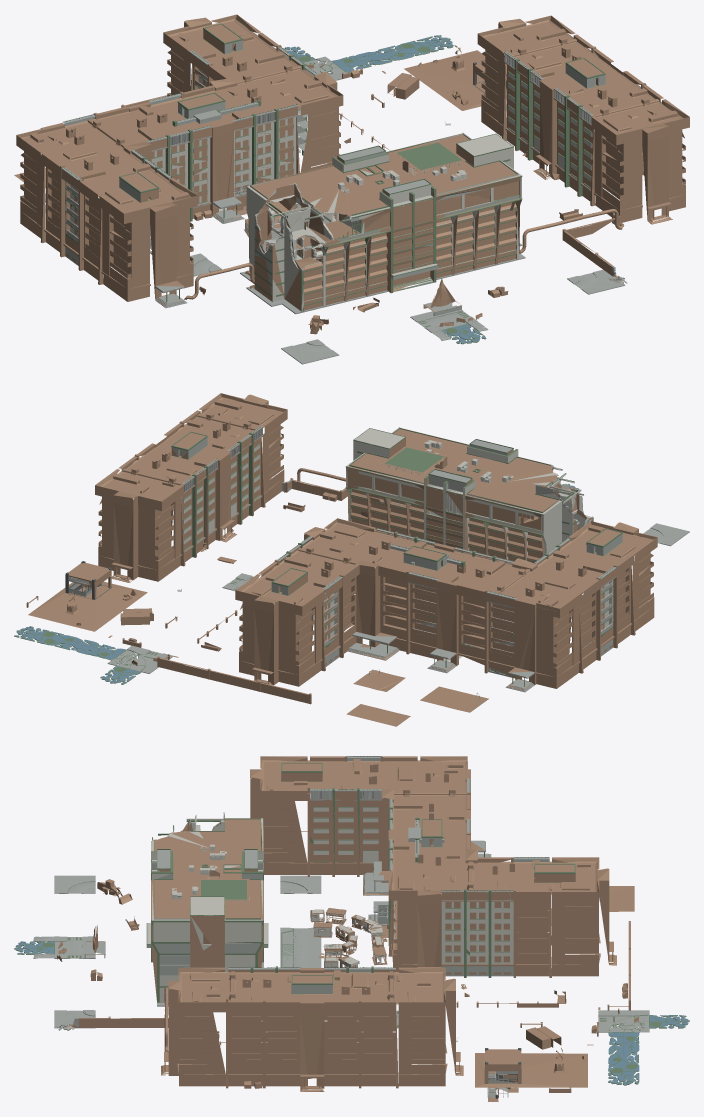
File: apartments_complex_1-close.glb
3 views of the same model, one above another, from view 1: azimuth 30°, elevation 25°; view 2: azimuth 150°, elevation 25°; view 3: azimuth 270°, elevation 25° (orthographic). The views are drawn at different scales.
Parts seen in each view (by area): view 1: HLOD_apartment_complex_1, roof_aircon_unit_150x150_a_lod0, apartment_complex_core_facade_LOD0, wall_300x300_LOD0, apartment_complex_core_upper_floor_LOD0; view 2: HLOD_apartment_complex_1, apartment_complex_core_facade_LOD0, wall_300x300_LOD0, roof_aircon_unit_150x150_a_lod0, apartment_complex_core_upper_floor_LOD0; view 3: HLOD_apartment_complex_1, wall_300x300_LOD0, roof_aircon_unit_150x150_a_lod0, apartment_complex_core_facade_LOD0, apartment_complex_core_upper_floor_LOD0.
Boxes of the visible parts, x1,y1,x2,y2 form: HLOD_apartment_complex_1: (14, 14, 689, 334); roof_aircon_unit_150x150_a_lod0: (65, 69, 592, 311); apartment_complex_core_facade_LOD0: (62, 23, 605, 344); wall_300x300_LOD0: (45, 40, 627, 364); apartment_complex_core_upper_floor_LOD0: (283, 35, 485, 343); HLOD_apartment_complex_1: (26, 393, 657, 726); apartment_complex_core_facade_LOD0: (14, 425, 622, 686); wall_300x300_LOD0: (69, 426, 689, 701); roof_aircon_unit_150x150_a_lod0: (68, 428, 613, 661); apartment_complex_core_upper_floor_LOD0: (14, 484, 579, 684); HLOD_apartment_complex_1: (57, 756, 638, 1101); wall_300x300_LOD0: (33, 756, 649, 1097); roof_aircon_unit_150x150_a_lod0: (147, 807, 521, 1101); apartment_complex_core_facade_LOD0: (14, 756, 689, 1089); apartment_complex_core_upper_floor_LOD0: (14, 941, 689, 1084).
Size of the model in its own units: 174 by 37.42 by 198.
